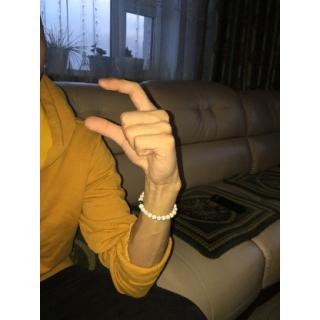DELL: (80, 74, 183, 192)
